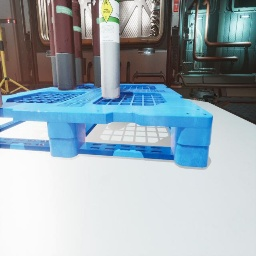0: (99, 0, 120, 99), (99, 0, 102, 92), (0, 85, 3, 108)
FireAlarm ,: (174, 0, 179, 12)
NitrogenTank ,: (51, 0, 76, 90), (46, 0, 58, 88), (72, 0, 84, 85), (91, 0, 101, 87)
SafetySwitchPanel ,: (0, 27, 9, 61)
